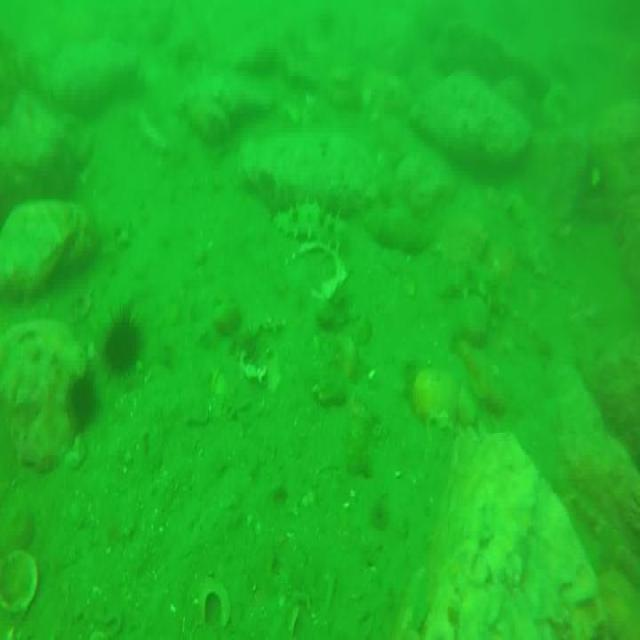echinus: (104, 312, 145, 374), (70, 372, 102, 432)
holothurian: (271, 199, 350, 251)
scallop: (289, 237, 352, 307), (0, 545, 39, 621), (188, 580, 232, 640)
